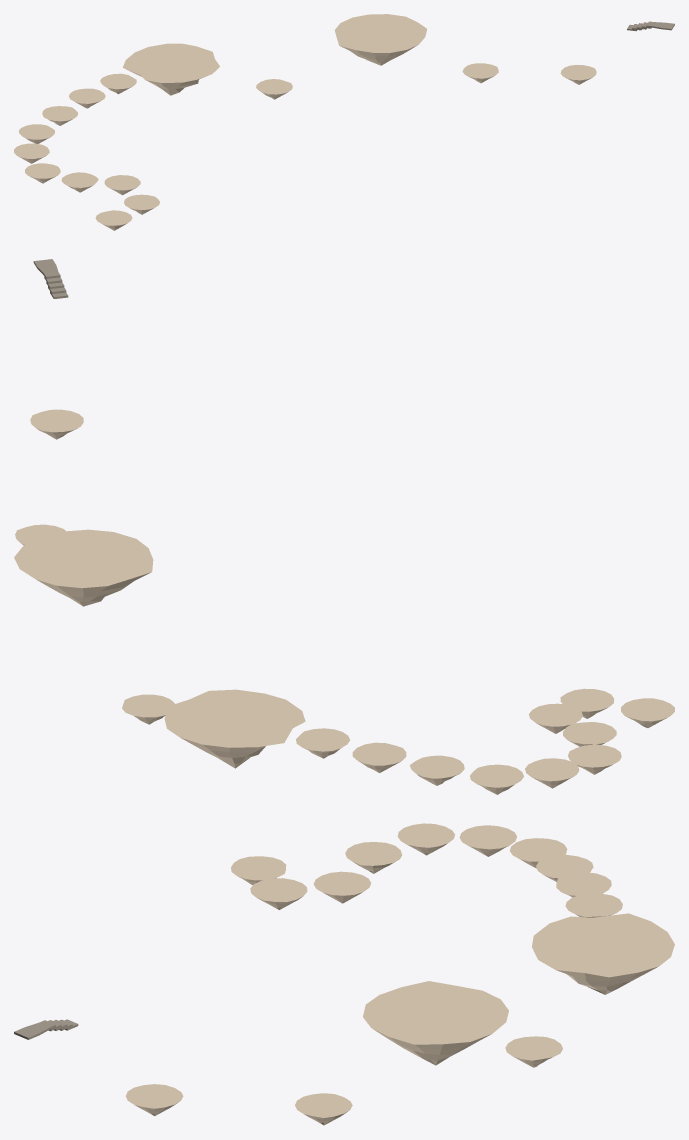
The model's file is trick3_fixed2.fbx.
The picture shows the model from 3 angles, top to bottom: view 1: azimuth 30°, elevation 25°; view 2: azimuth 150°, elevation 25°; view 3: azimuth 270°, elevation 25°; orthographic projection. The views are drawn at different scales.
Visible parts, largest first — view 1: isl13, isl11, isl12_support, isl10, isl1, isl6, isl7, isl9, isl4, isl3, isl14_support, isl15_support (+3 smaller); view 2: isl13, isl11, isl9, isl8, isl10, isl6, isl7, isl1, isl15_support, isl5, isl3, isl12_support (+2 smaller); view 3: isl13, isl11, isl14_support, isl2, isl15_support, isl5, isl4, isl3, isl6, isl12_support, isl1, isl10 (+4 smaller).
Boxes of the visible parts, <box> form: isl13: <box>334,14,426,65</box>; isl11: <box>123,43,219,95</box>; isl12_support: <box>256,79,292,99</box>; isl10: <box>100,73,136,94</box>; isl1: <box>95,210,132,230</box>; isl6: <box>14,143,49,163</box>; isl7: <box>19,124,54,143</box>; isl9: <box>69,88,105,108</box>; isl4: <box>61,172,98,192</box>; isl3: <box>104,175,140,195</box>; isl14_support: <box>462,63,498,83</box>; isl15_support: <box>560,65,596,84</box>; isl13: <box>14,529,153,606</box>; isl11: <box>164,689,305,768</box>; isl9: <box>352,742,406,772</box>; isl8: <box>409,755,464,785</box>; isl10: <box>296,728,350,758</box>; isl6: <box>525,758,579,788</box>; isl7: <box>470,764,523,794</box>; isl1: <box>621,698,674,727</box>; isl15_support: <box>30,409,83,439</box>; isl5: <box>568,744,621,774</box>; isl3: <box>528,703,582,733</box>; isl12_support: <box>122,694,174,724</box>; isl13: <box>363,981,508,1065</box>; isl11: <box>532,913,674,994</box>; isl14_support: <box>295,1093,352,1125</box>; isl2: <box>250,878,307,909</box>; isl15_support: <box>125,1084,183,1116</box>; isl5: <box>397,823,454,855</box>; isl4: <box>345,842,401,873</box>; isl3: <box>313,871,370,903</box>; isl6: <box>459,825,516,856</box>; isl12_support: <box>505,1036,562,1067</box>; isl1: <box>231,856,286,885</box>; isl10: <box>565,893,622,917</box>.
Size of the model in its own units: 6005 by 1565 by 4217.
